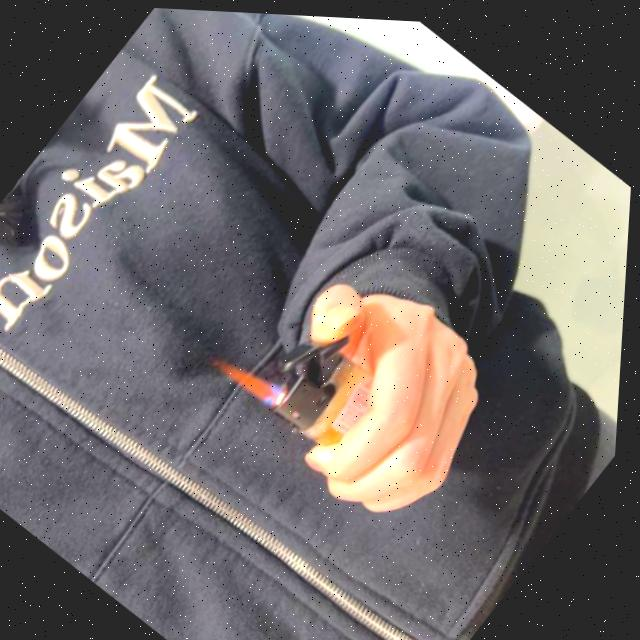Fire: (216, 337, 297, 410)
